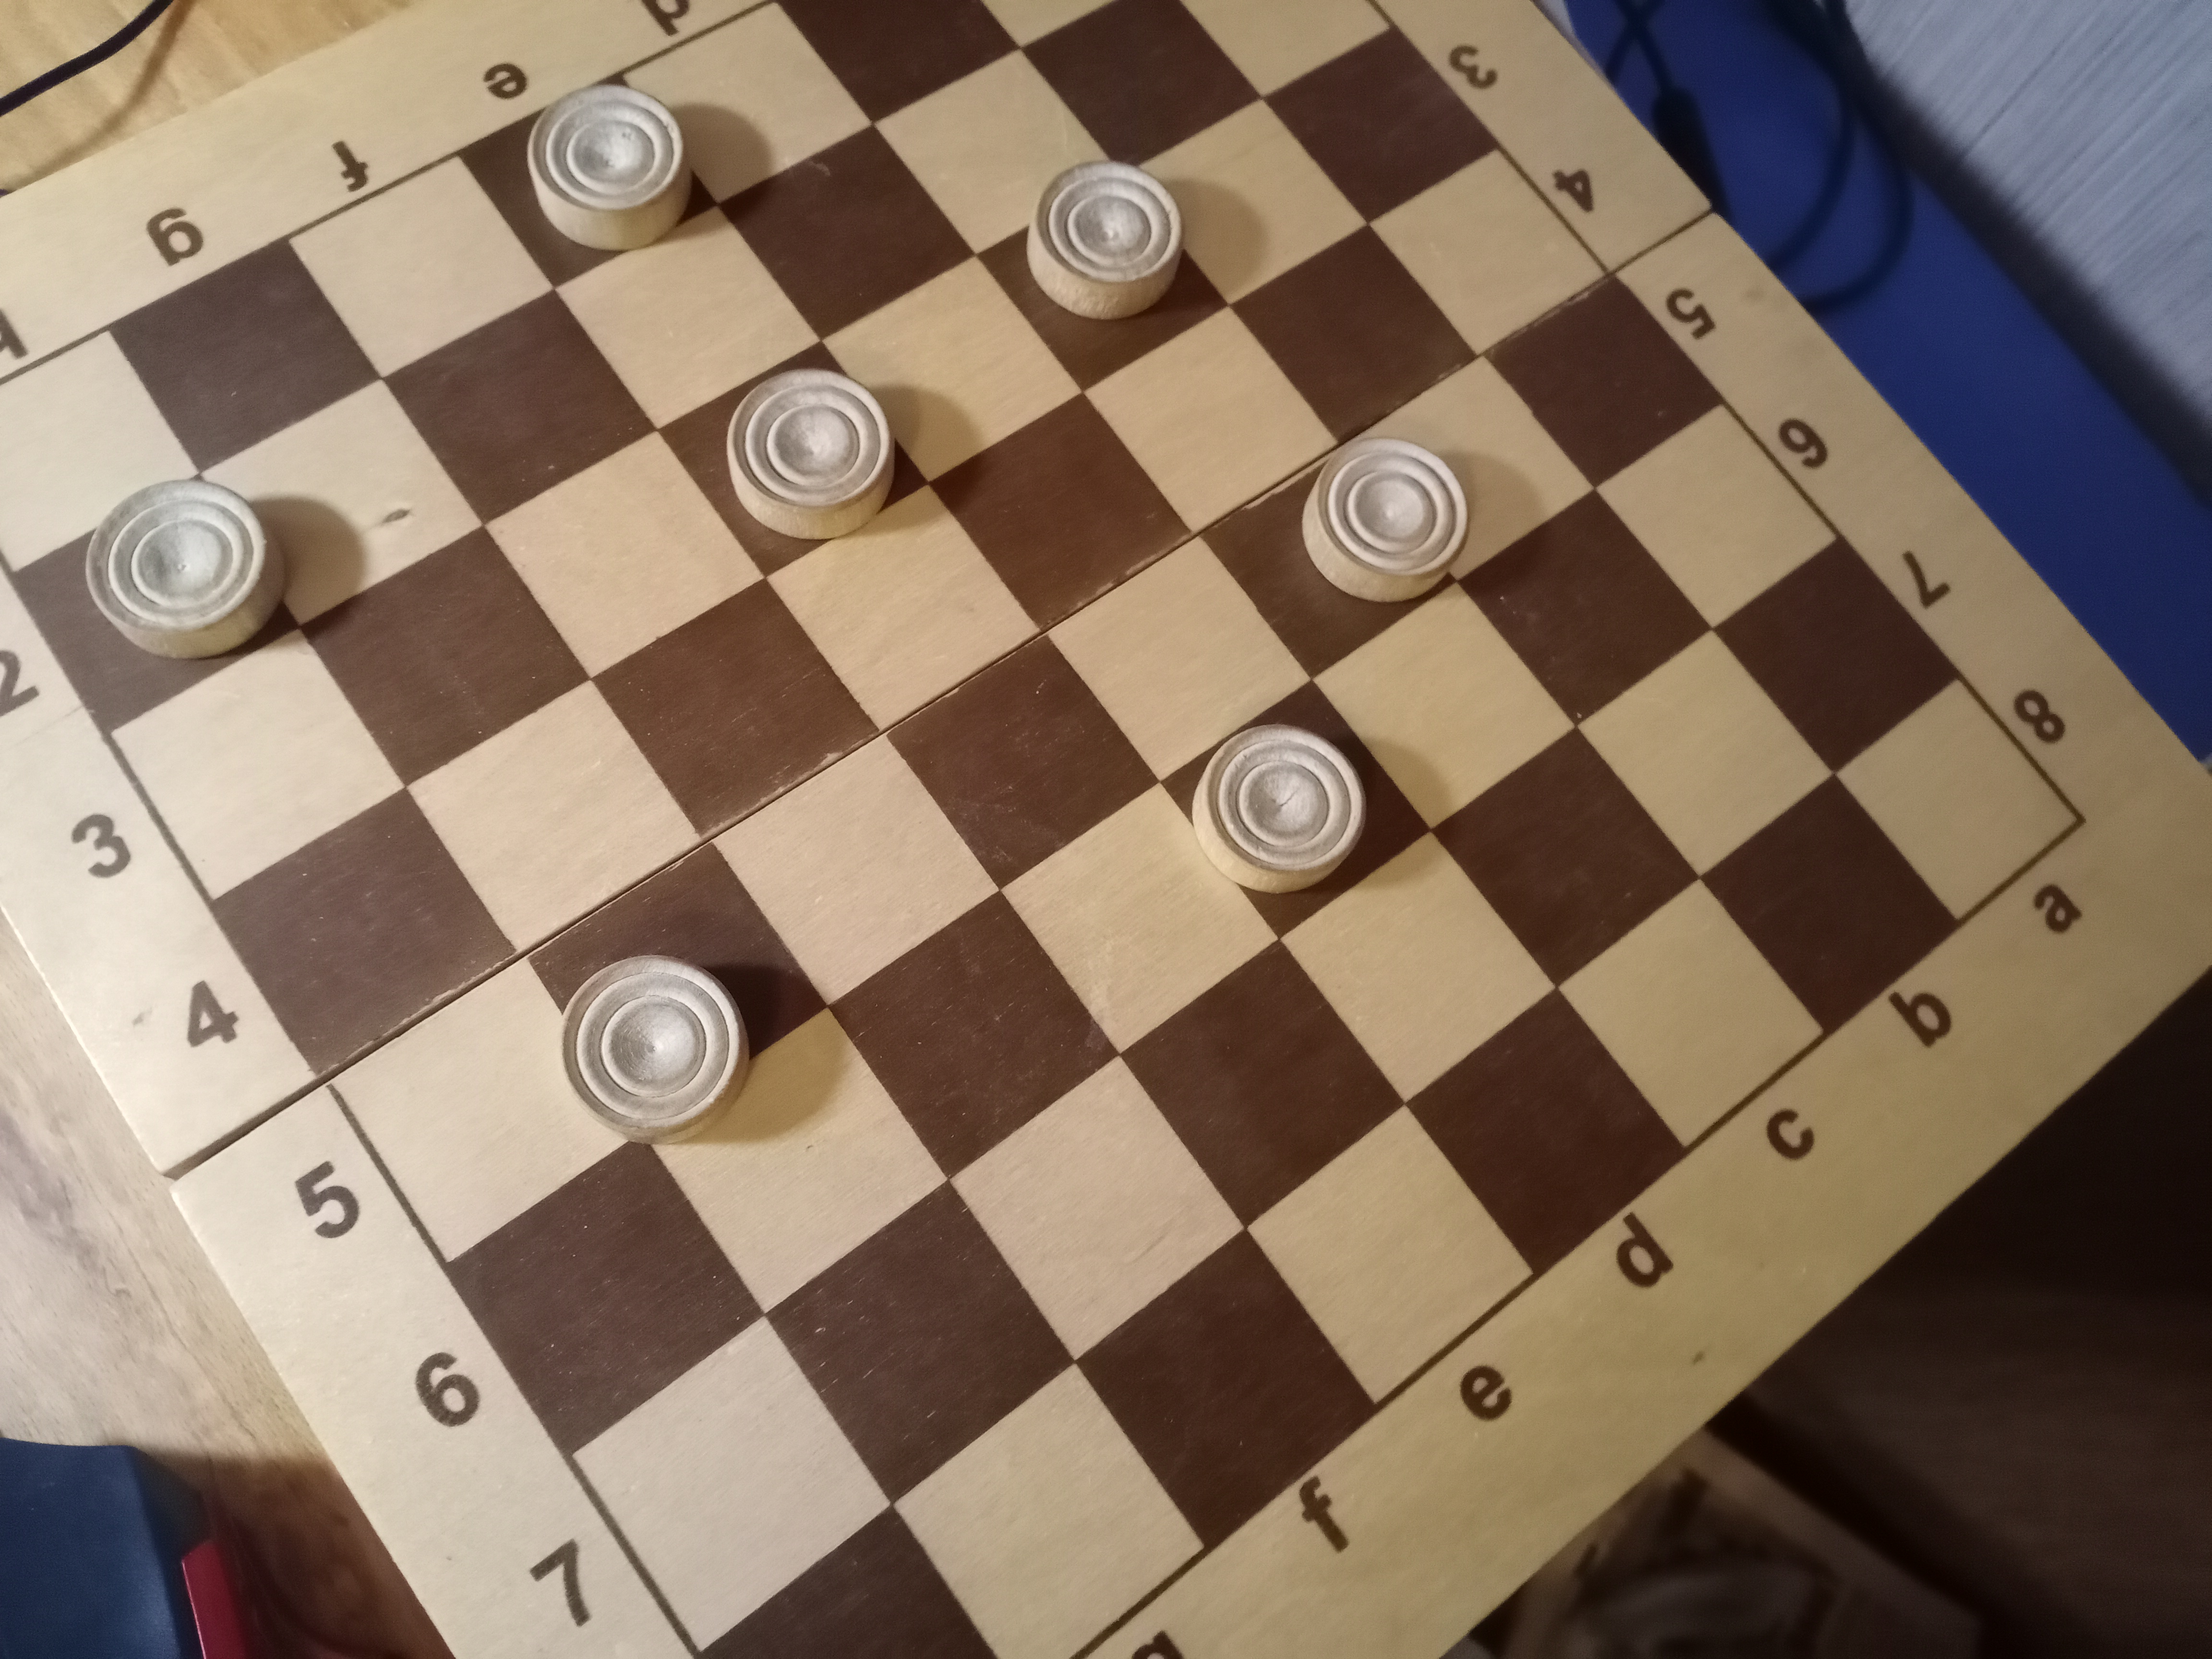White_Draught: (526, 840, 829, 1147), (12, 476, 298, 730), (1160, 680, 1430, 939), (1198, 439, 1470, 681), (658, 342, 927, 577), (975, 160, 1231, 394), (460, 73, 716, 291)
